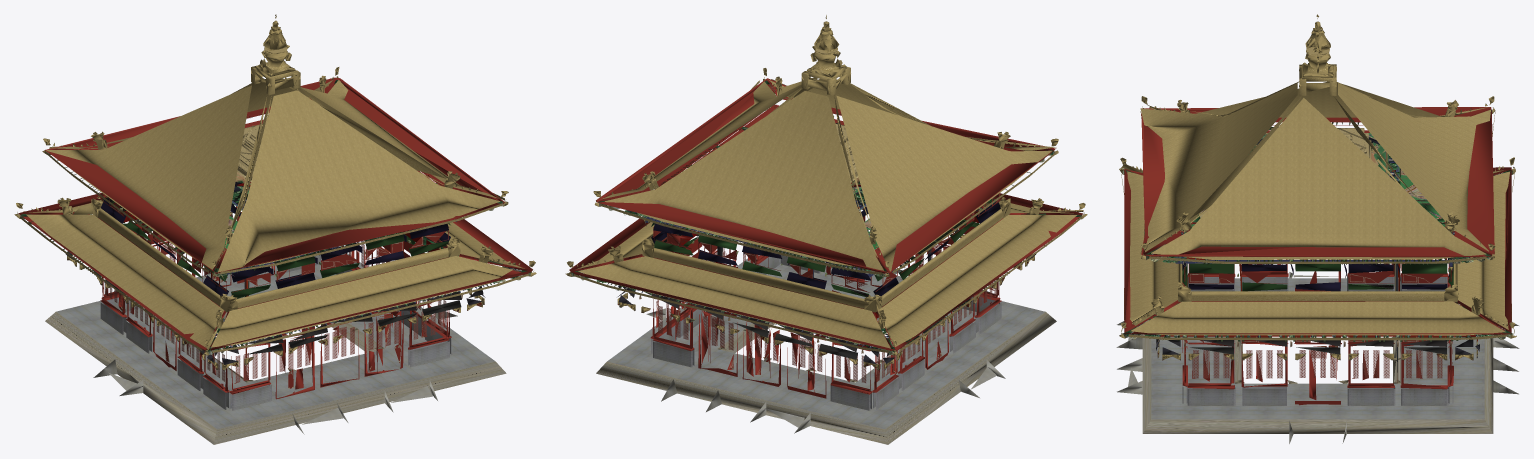
Rendered from chengde_temple.glb.
3 renders of one model, left to right at view 1: azimuth 30°, elevation 25°; view 2: azimuth 150°, elevation 25°; view 3: azimuth 270°, elevation 25°, orthographic. The views are drawn at different scales.
Visible parts, largest first — view 1: Cube.026_TempleGoldRoof2_MAT_0, Cube.14814_TempleRedGold_MAT_0, Cube.001_PlattformBricks_MAT_0, Cube.028_PlattformWood_MAT_0, Cube.003_GoldOrnaments_colour_0, Cube.1752_Material.013_0, Cube.008_Material.006_0, Cube.002_Material.045_0, Plane.007_TempleGoldRoofDecos_0, FrameDecals.037_Material.044_0, Cube.1711_Material.030_0, Cube.023_Material.003_0 (+10 smaller); view 2: Cube.026_TempleGoldRoof2_MAT_0, Cube.14814_TempleRedGold_MAT_0, Cube.001_PlattformBricks_MAT_0, Cube.028_PlattformWood_MAT_0, Cube.1752_Material.013_0, Cube.003_GoldOrnaments_colour_0, Cube.008_Material.006_0, Cube.002_Material.045_0, Plane.007_TempleGoldRoofDecos_0, FrameDecals.037_Material.044_0, Cube.1711_Material.030_0, Cube.014_Material.065_0 (+10 smaller); view 3: Cube.026_TempleGoldRoof2_MAT_0, Cube.14814_TempleRedGold_MAT_0, Cube.001_PlattformBricks_MAT_0, Cube.028_PlattformWood_MAT_0, Cube.1752_Material.013_0, Cube.003_GoldOrnaments_colour_0, FrameDecals.037_Material.044_0, Cube.008_Material.006_0, Plane.007_TempleGoldRoofDecos_0, Cube.1711_Material.030_0, Cube.014_Material.065_0, Cube.023_Material.003_0 (+15 smaller).
Boxes of the visible parts, x1=… form: Cube.026_TempleGoldRoof2_MAT_0: x1=26, y1=78, x2=524, y2=347; Cube.14814_TempleRedGold_MAT_0: x1=18, y1=77, x2=532, y2=399; Cube.001_PlattformBricks_MAT_0: x1=56, y1=247, x2=495, y2=429; Cube.028_PlattformWood_MAT_0: x1=45, y1=312, x2=506, y2=444; Cube.003_GoldOrnaments_colour_0: x1=14, y1=14, x2=536, y2=355; Cube.1752_Material.013_0: x1=100, y1=251, x2=451, y2=410; Cube.008_Material.006_0: x1=98, y1=204, x2=449, y2=308; Cube.002_Material.045_0: x1=156, y1=246, x2=401, y2=389; Plane.007_TempleGoldRoofDecos_0: x1=20, y1=152, x2=528, y2=352; FrameDecals.037_Material.044_0: x1=104, y1=241, x2=446, y2=383; Cube.1711_Material.030_0: x1=101, y1=193, x2=448, y2=347; Cube.023_Material.003_0: x1=232, y1=77, x2=445, y2=228; Cube.026_TempleGoldRoof2_MAT_0: x1=576, y1=78, x2=1076, y2=348; Cube.14814_TempleRedGold_MAT_0: x1=569, y1=78, x2=1083, y2=398; Cube.001_PlattformBricks_MAT_0: x1=607, y1=255, x2=1045, y2=429; Cube.028_PlattformWood_MAT_0: x1=596, y1=312, x2=1056, y2=444; Cube.1752_Material.013_0: x1=651, y1=251, x2=1001, y2=410; Cube.003_GoldOrnaments_colour_0: x1=565, y1=15, x2=1087, y2=355; Cube.008_Material.006_0: x1=652, y1=202, x2=1003, y2=308; Cube.002_Material.045_0: x1=701, y1=246, x2=947, y2=390; Plane.007_TempleGoldRoofDecos_0: x1=573, y1=152, x2=1081, y2=352; FrameDecals.037_Material.044_0: x1=656, y1=243, x2=997, y2=382; Cube.1711_Material.030_0: x1=652, y1=193, x2=1000, y2=347; Cube.014_Material.065_0: x1=646, y1=268, x2=1005, y2=433; Cube.026_TempleGoldRoof2_MAT_0: x1=1127, y1=81, x2=1509, y2=335; Cube.14814_TempleRedGold_MAT_0: x1=1124, y1=107, x2=1511, y2=405; Cube.001_PlattformBricks_MAT_0: x1=1151, y1=278, x2=1484, y2=419; Cube.028_PlattformWood_MAT_0: x1=1142, y1=320, x2=1493, y2=433; Cube.1752_Material.013_0: x1=1182, y1=275, x2=1453, y2=405; Cube.003_GoldOrnaments_colour_0: x1=1119, y1=14, x2=1516, y2=338; FrameDecals.037_Material.044_0: x1=1185, y1=259, x2=1442, y2=381; Cube.008_Material.006_0: x1=1178, y1=178, x2=1457, y2=300; Plane.007_TempleGoldRoofDecos_0: x1=1121, y1=111, x2=1514, y2=340; Cube.1711_Material.030_0: x1=1184, y1=222, x2=1451, y2=342; Cube.014_Material.065_0: x1=1116, y1=272, x2=1519, y2=443; Cube.023_Material.003_0: x1=1190, y1=81, x2=1412, y2=218.
Size of the model in its own units: 242 by 229 by 242.
67 materials, 67 textured.
